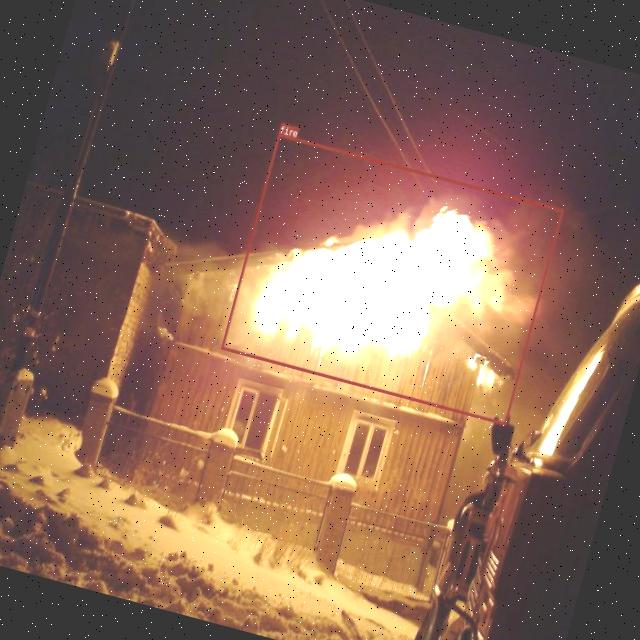fire: (220, 133, 563, 424)
